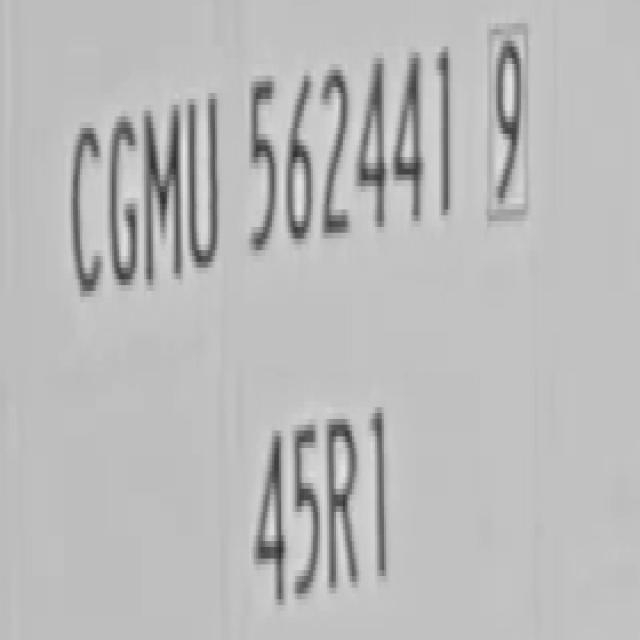dv: (479, 16, 535, 254)
owner: (66, 58, 222, 311)
serial: (242, 19, 458, 292)
size: (244, 378, 396, 624)
